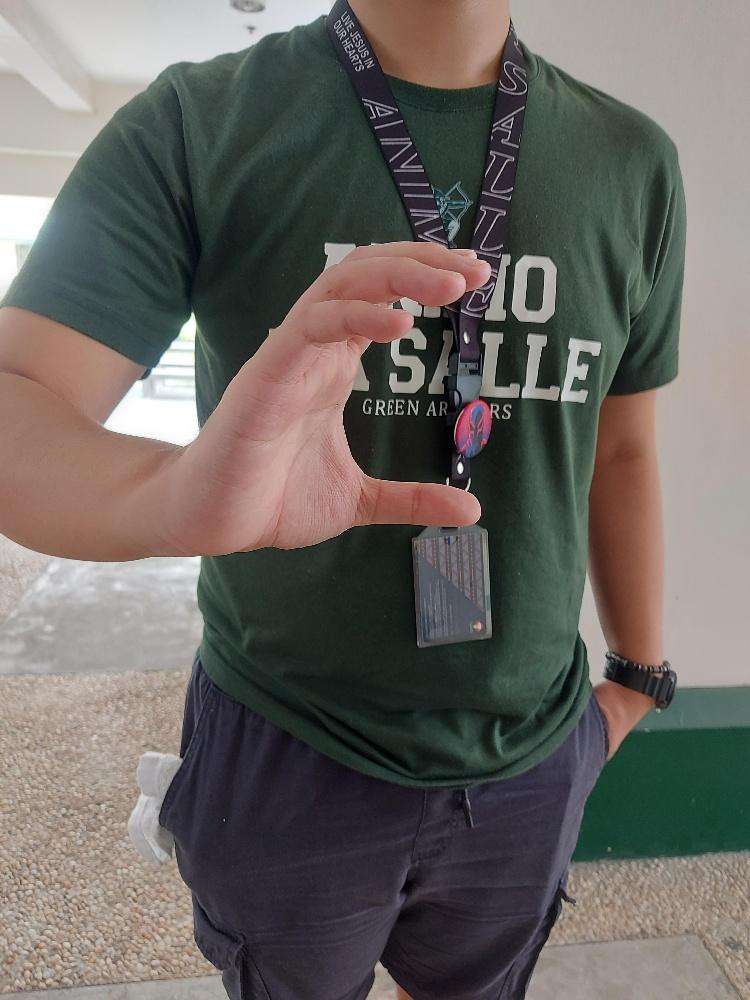c: (178, 237, 483, 561)
